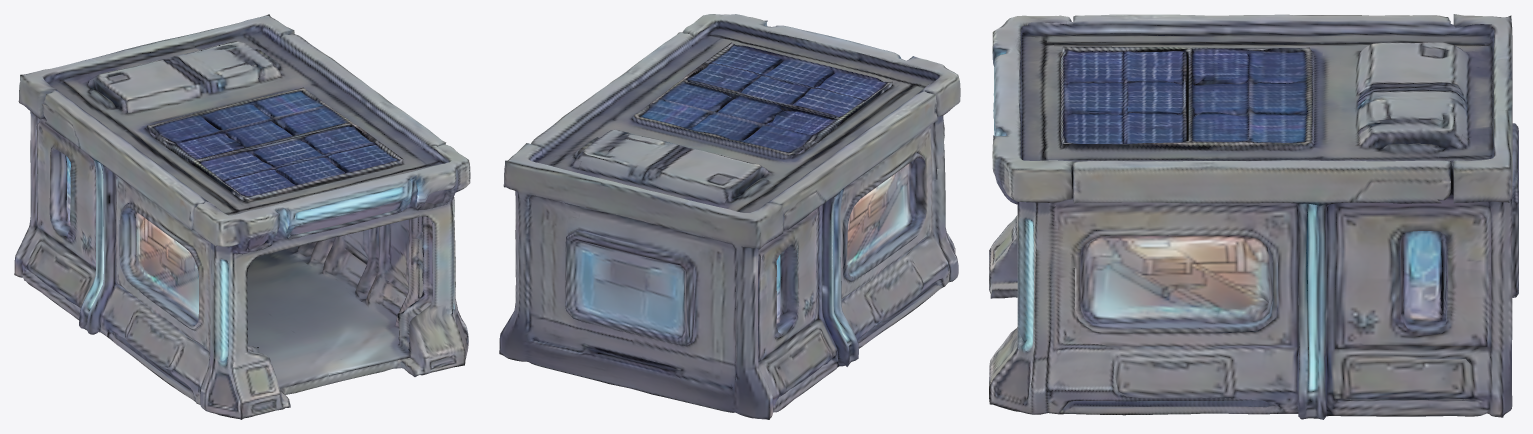
Rendered from house_flat.fbx.
3 views of the same model, side by side, from view 1: azimuth 30°, elevation 25°; view 2: azimuth 150°, elevation 25°; view 3: azimuth 270°, elevation 25° (orthographic). The views are drawn at different scales.
Visible parts, largest first — view 1: model_LOD0; view 2: model_LOD0; view 3: model_LOD0.
Part boxes in pixels (left/top/right/bottom): model_LOD0: left=14, top=14, right=470, bottom=419; model_LOD0: left=499, top=14, right=960, bottom=419; model_LOD0: left=989, top=14, right=1518, bottom=419.
Size of what is drawn, in the model's own units: 145 by 98.55 by 189.
